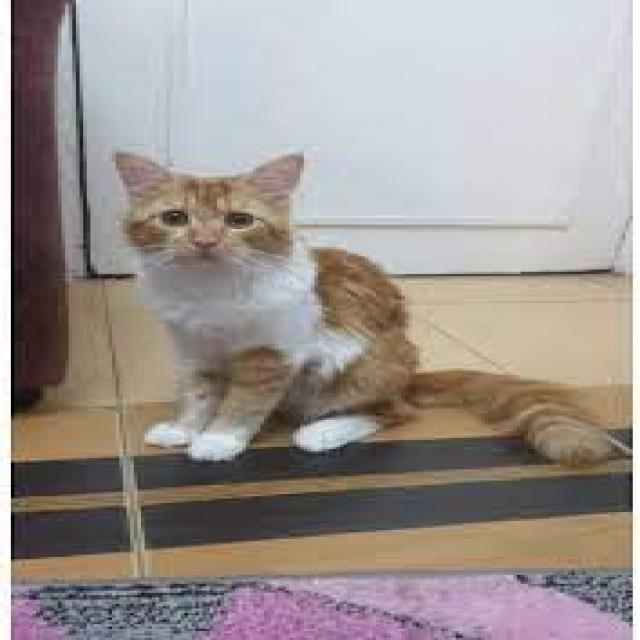cat: (72, 112, 492, 475)
